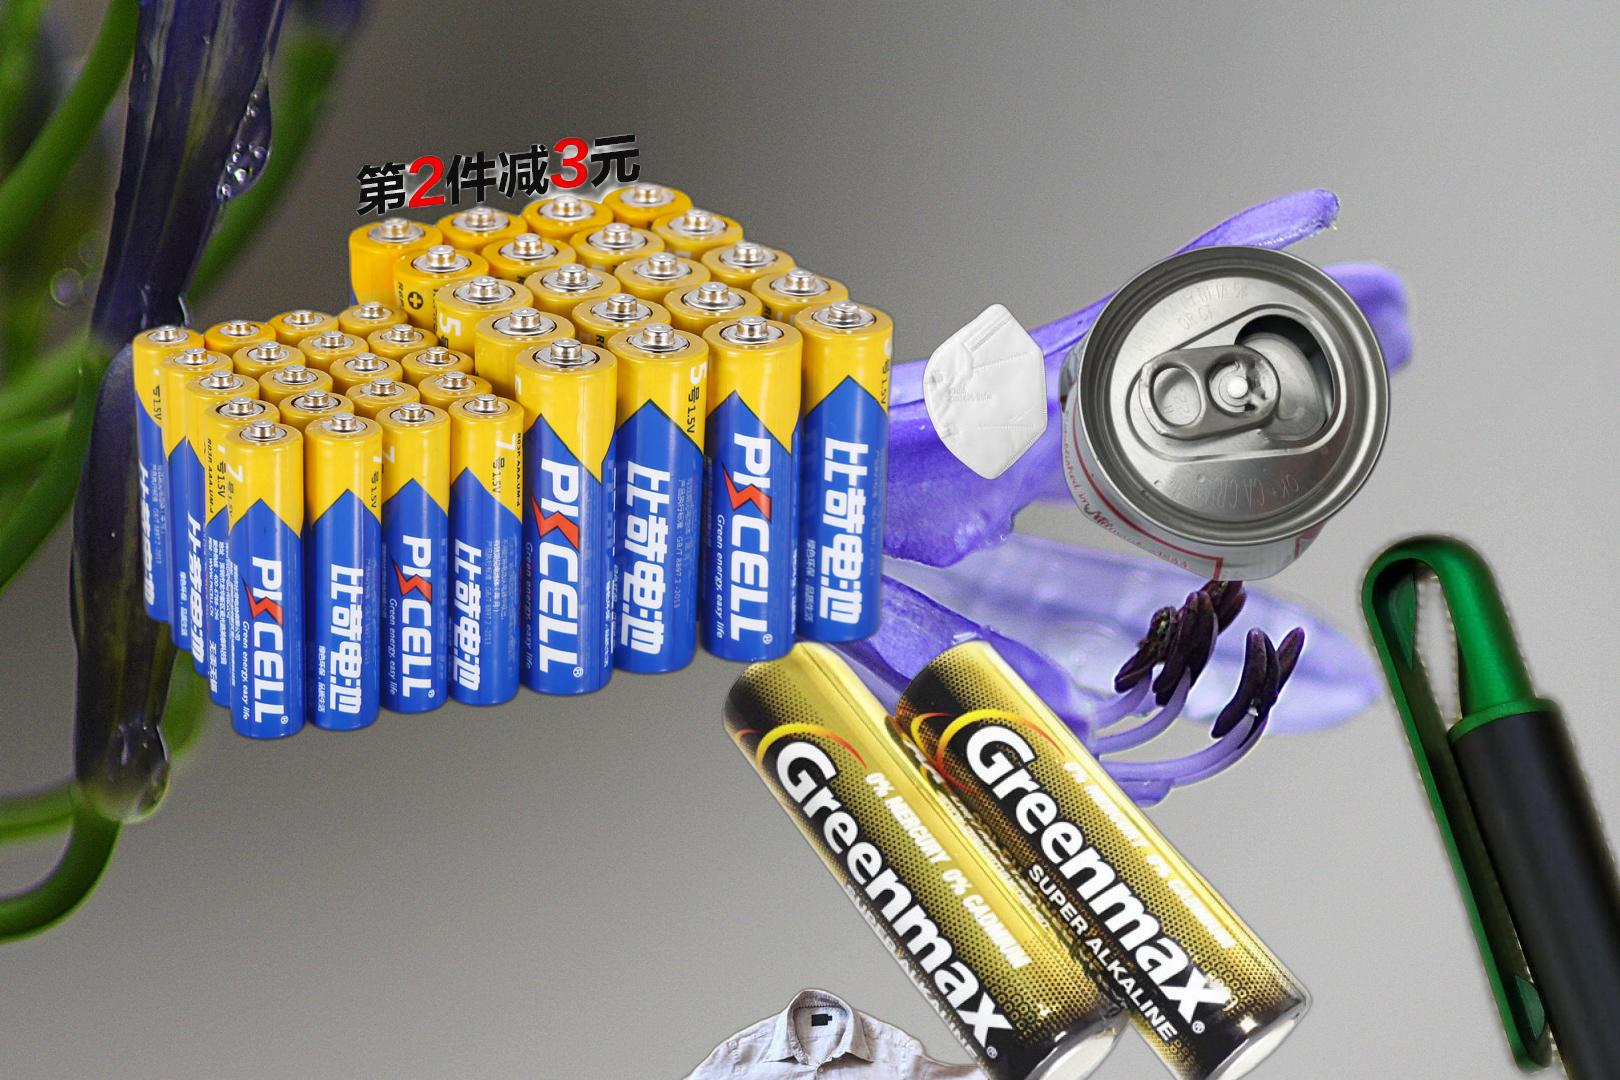battery: (125, 127, 900, 749), (717, 634, 1314, 1080), (183, 405, 458, 588)
clothes: (652, 984, 996, 1080)
metal-cans: (1053, 245, 1395, 585)
penholder: (1154, 151, 1620, 1080)
trash: (920, 301, 1051, 483)
trashbox-cardboard: (816, 1035, 1064, 1080)
